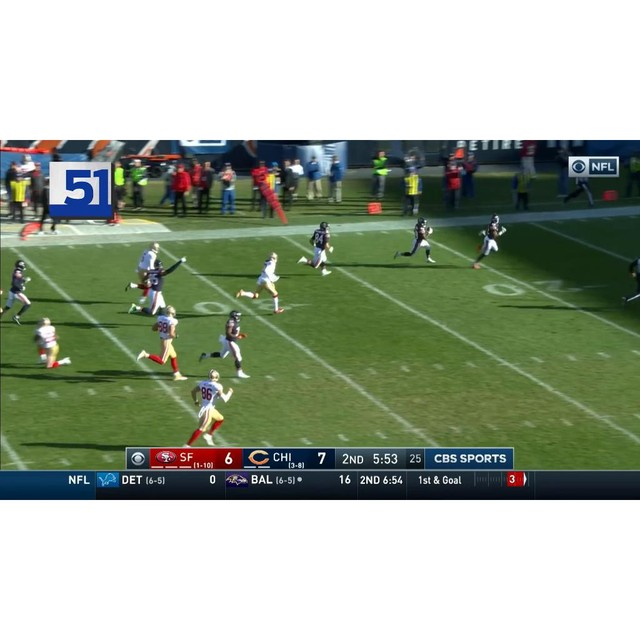american-football-player: (184, 368, 232, 447), (136, 304, 185, 380), (201, 310, 250, 378), (238, 251, 284, 313), (128, 258, 175, 318), (0, 261, 35, 326), (32, 316, 72, 370), (295, 222, 334, 277), (394, 216, 436, 264), (471, 214, 507, 269), (126, 241, 161, 297)
